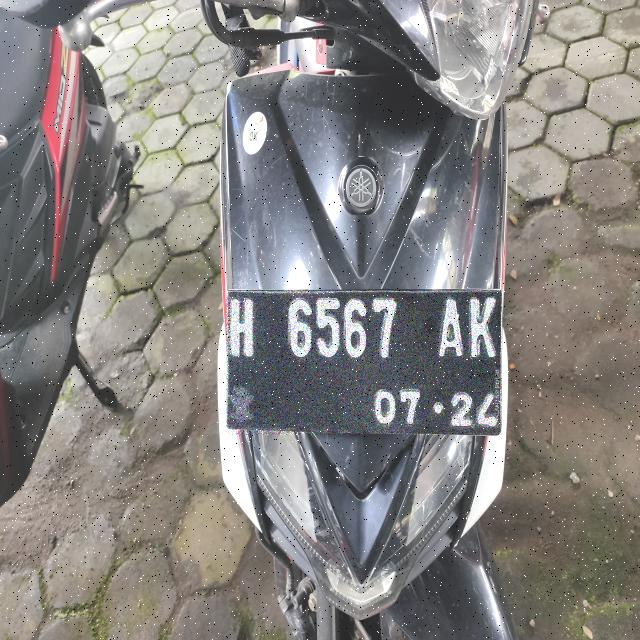plate: (227, 290, 501, 434)
